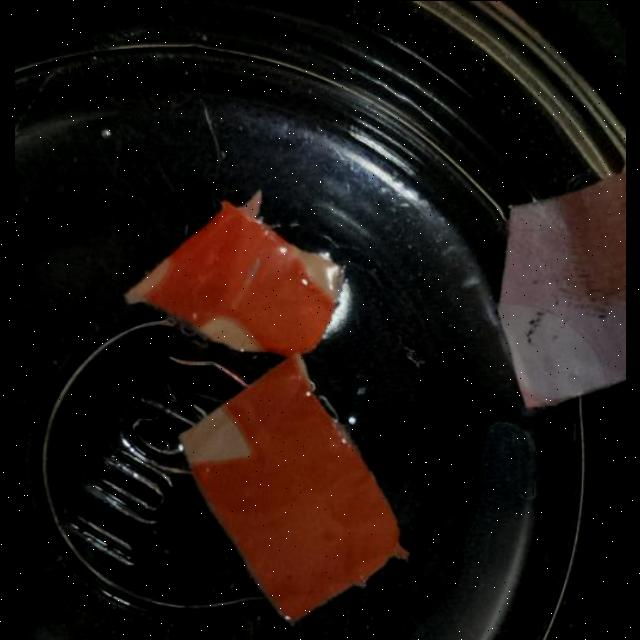Fragment: (180, 352, 404, 622), (129, 194, 339, 358), (496, 154, 626, 408)
